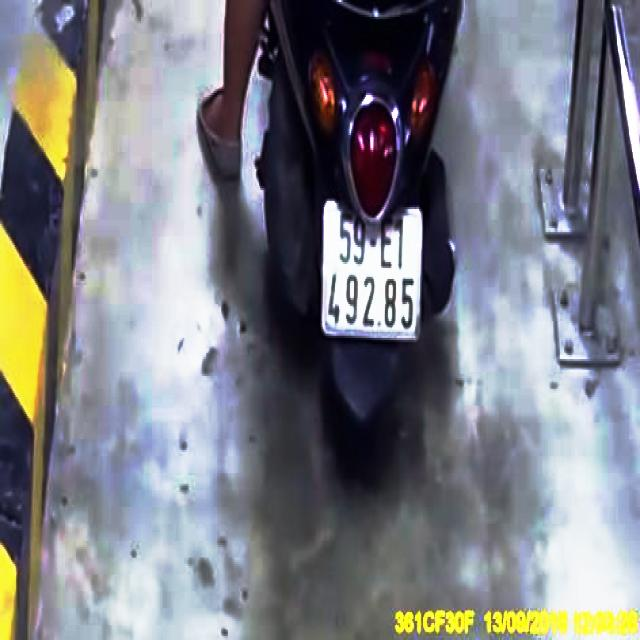license_plate: (324, 202, 422, 340)
